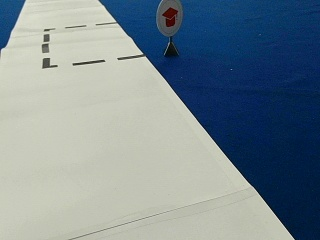school: (154, 1, 183, 35)
